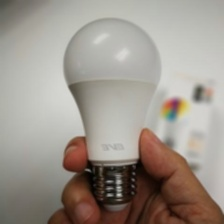light_bulb: (60, 11, 166, 215)
